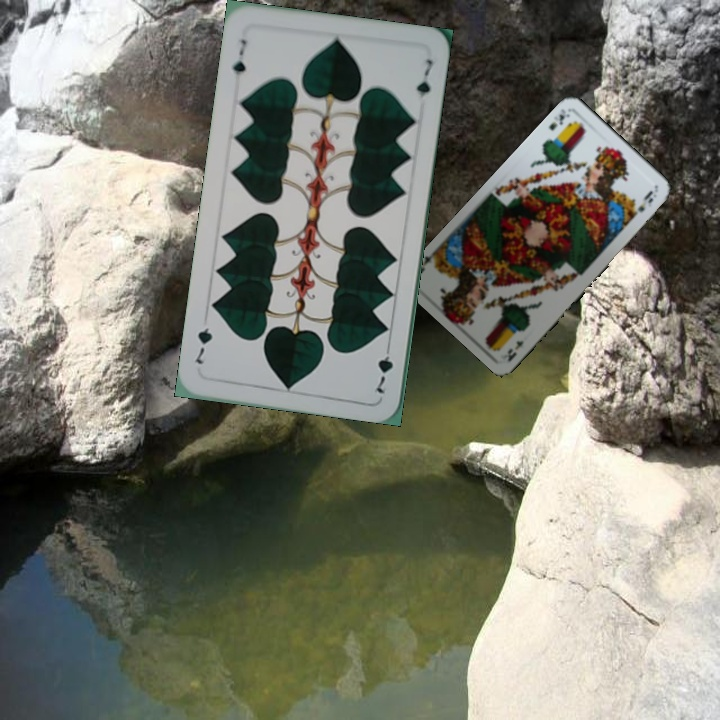EK: (545, 104, 572, 133), (503, 337, 527, 364)
G7: (372, 338, 396, 396), (229, 35, 250, 78)
